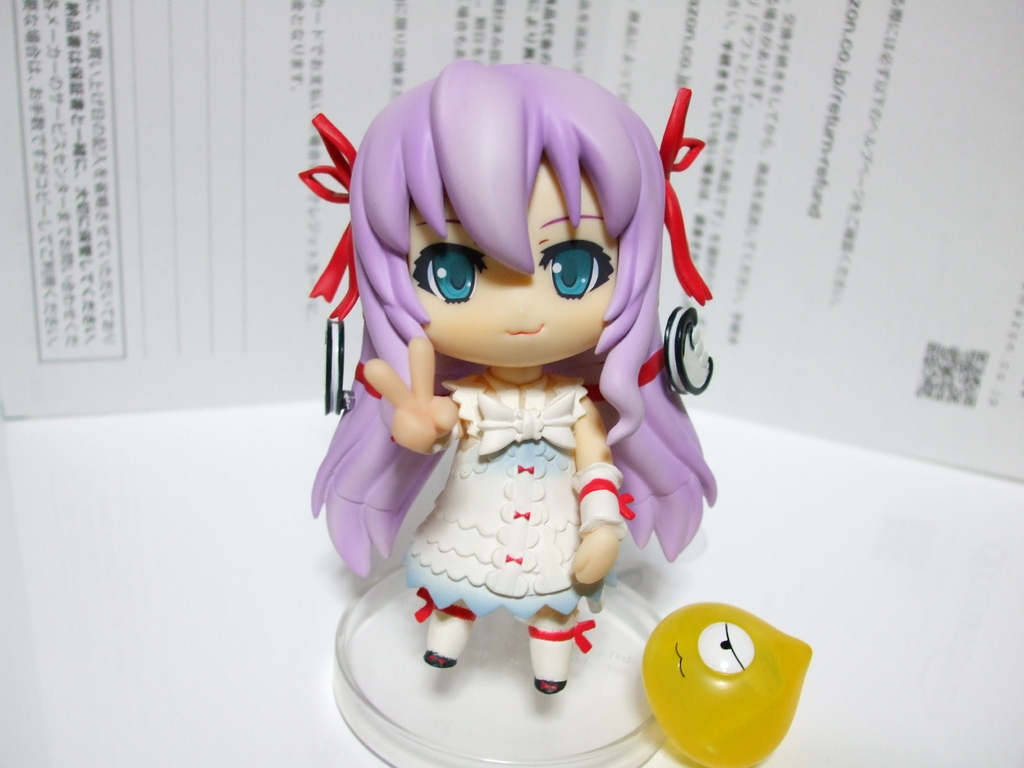Human-face: (410, 157, 619, 367)
